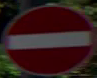No entry: (4, 2, 94, 71)
